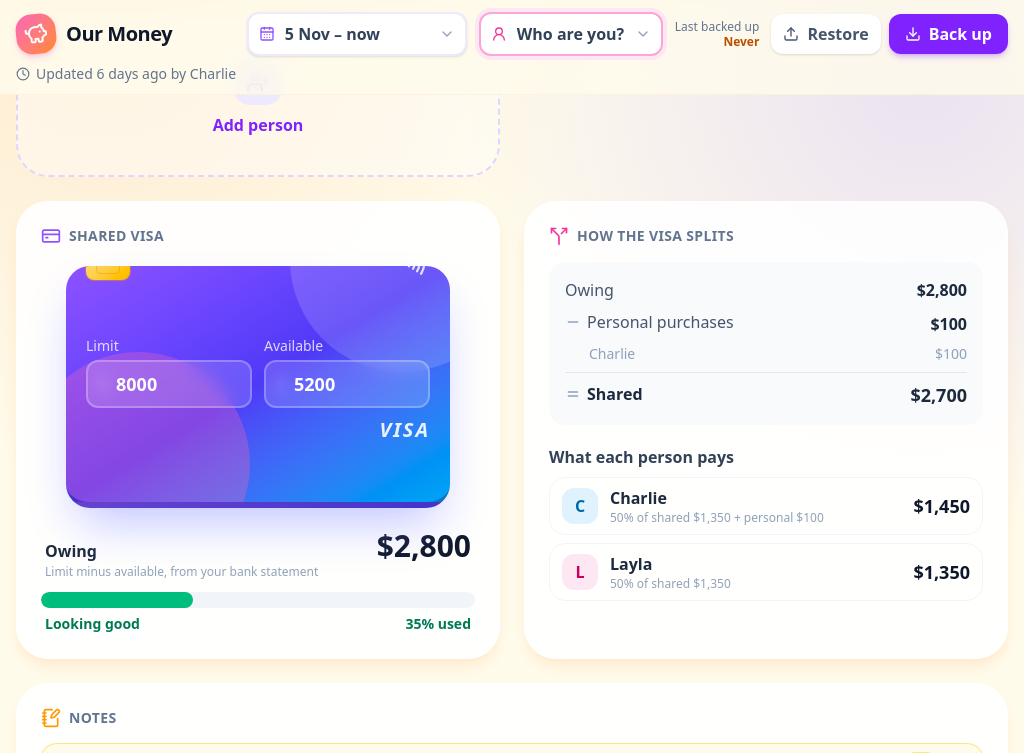
Scenario: Visa, notes and closing the month › recalculates when the available amount changes
(page scrolled)
Replace the text in the field labelled "Available" with "1000" at (347, 384), box top-left (264, 360), bottom-right (430, 408)
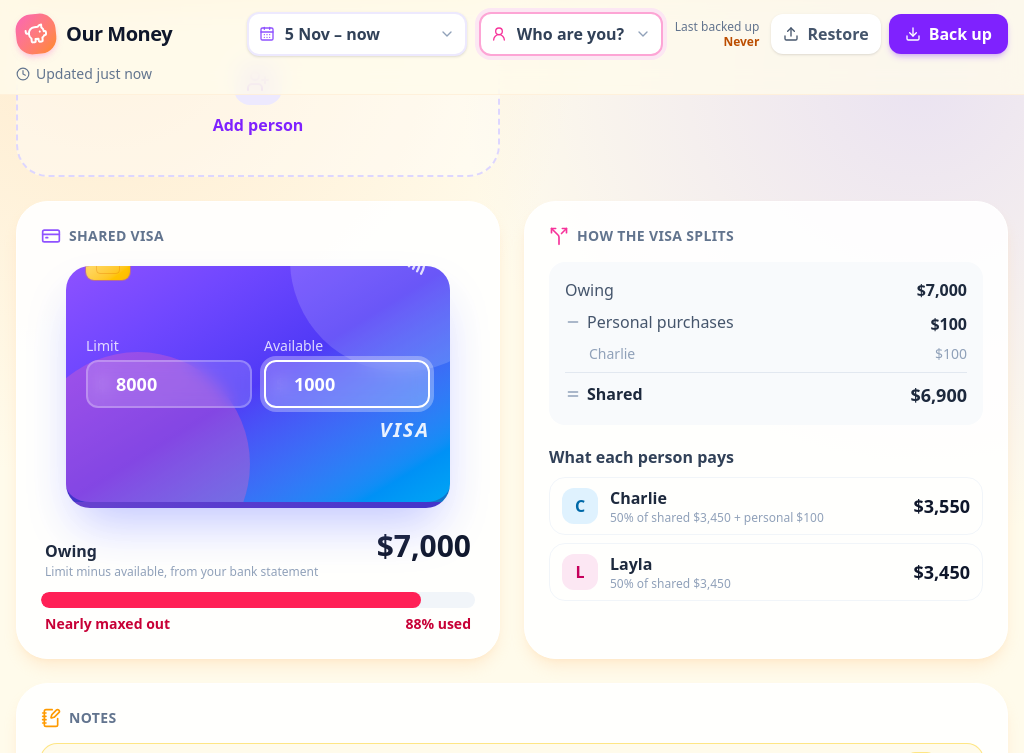
Check: the text "Nearly maxed out" is shown, box top-left (45, 614), bottom-right (170, 634)
Check: the text "$6,900" is shown, box top-left (910, 381), bottom-right (967, 409)
